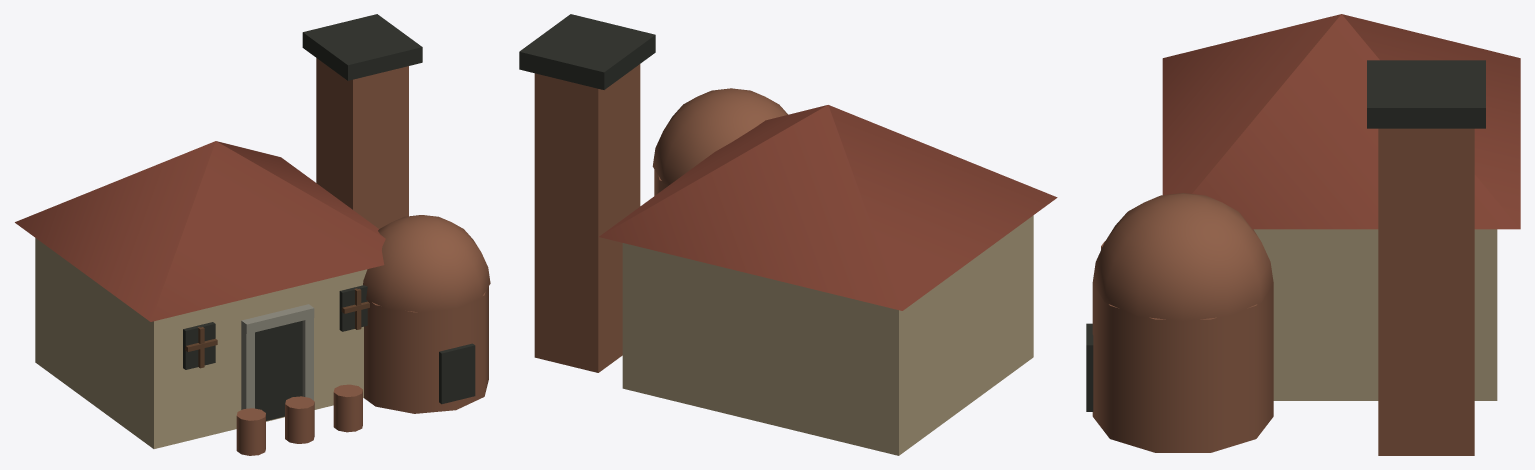
File: custom-imp-kiln.glb
The picture shows the model from 3 angles, left to right: view 1: azimuth 30°, elevation 25°; view 2: azimuth 150°, elevation 25°; view 3: azimuth 270°, elevation 25°; orthographic projection. The views are drawn at different scales.
Visible parts, largest first — view 1: custom-imp-kiln; view 2: custom-imp-kiln; view 3: custom-imp-kiln.
Part boxes in pixels (x1,y1,x2,y2): custom-imp-kiln: [15, 14, 490, 455]; custom-imp-kiln: [519, 14, 1057, 455]; custom-imp-kiln: [1086, 14, 1520, 455].
Bounding box in the file's own units: 1 × 0.736 × 0.8184.
